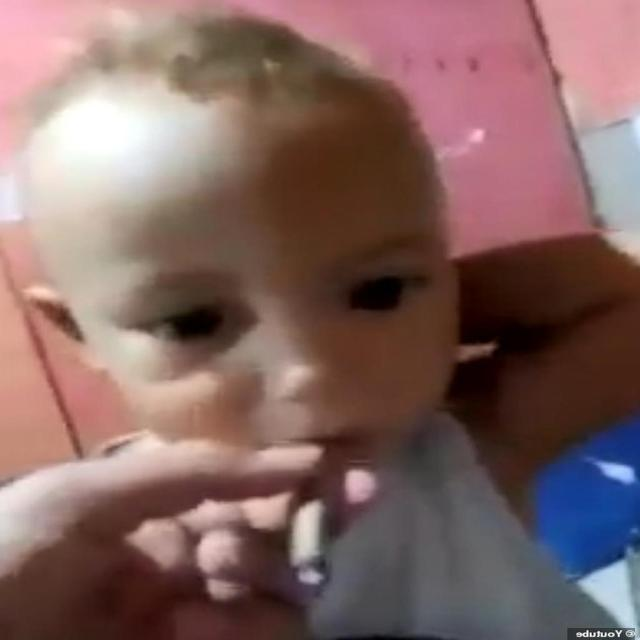smoking: (16, 13, 465, 595)
